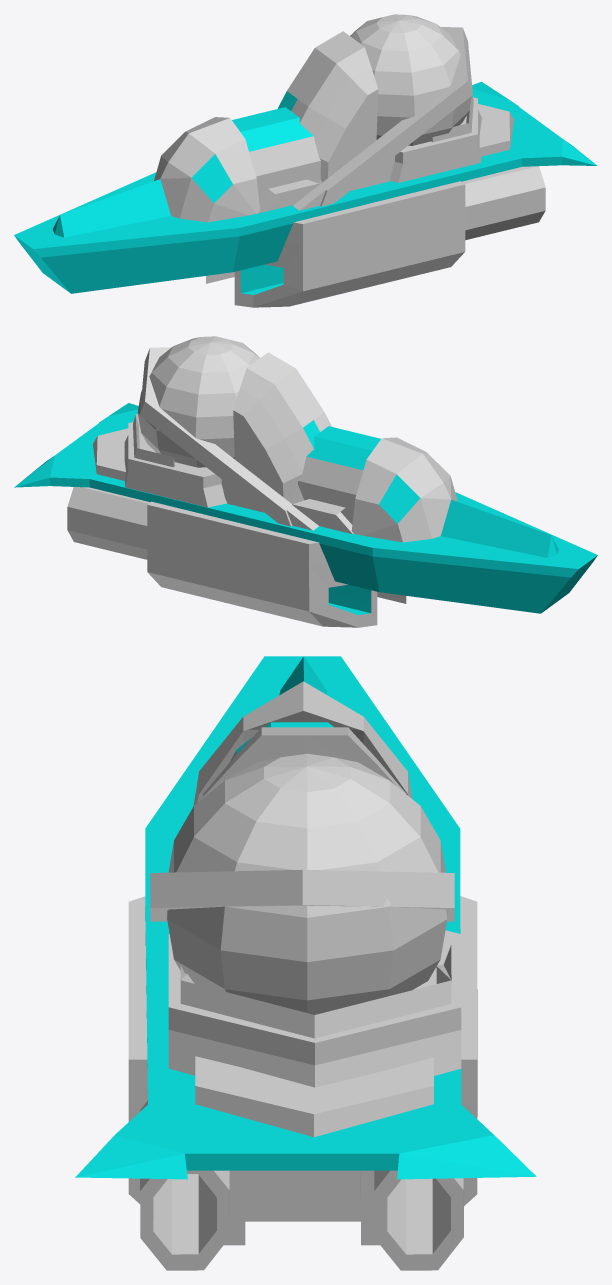
File: Kamikaze.fbx
3 renders of one model, top to bottom at view 1: azimuth 30°, elevation 25°; view 2: azimuth 150°, elevation 25°; view 3: azimuth 270°, elevation 25°, orthographic. The views are drawn at different scales.
Visible parts, largest first — view 1: polySurface138; view 2: polySurface138; view 3: polySurface138.
Part boxes in pixels (x1,y1,x2,y2): polySurface138: [14, 14, 597, 307]; polySurface138: [14, 336, 597, 627]; polySurface138: [75, 656, 536, 1270].
Bounding box in the file's own units: 30.96 × 13.07 × 11.94.
